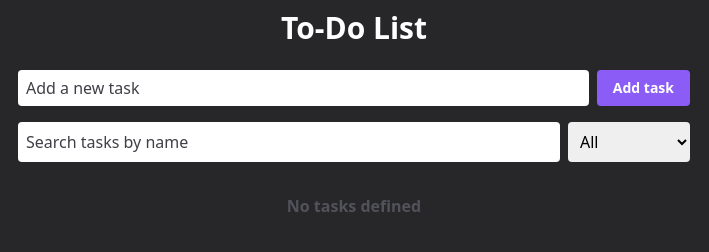
ToDoList Component › should add a new task
Type "New Task" into the field with placeholder "Add a new task" at (303,88), box [18,70,589,106]
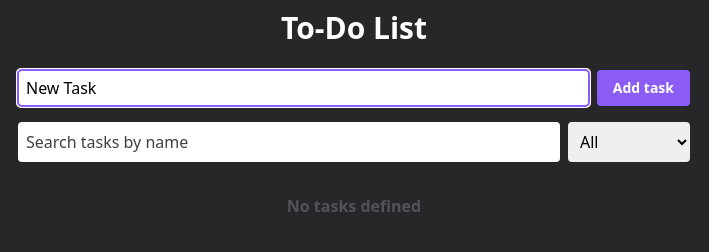
Click the button "Add task" at (643,88), box [597,70,690,106]
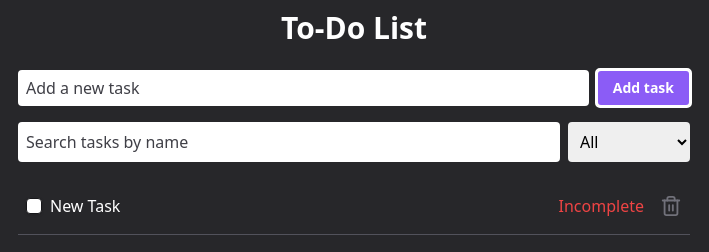
Expected: the text "New Task" is shown, [50,194,120,218]
